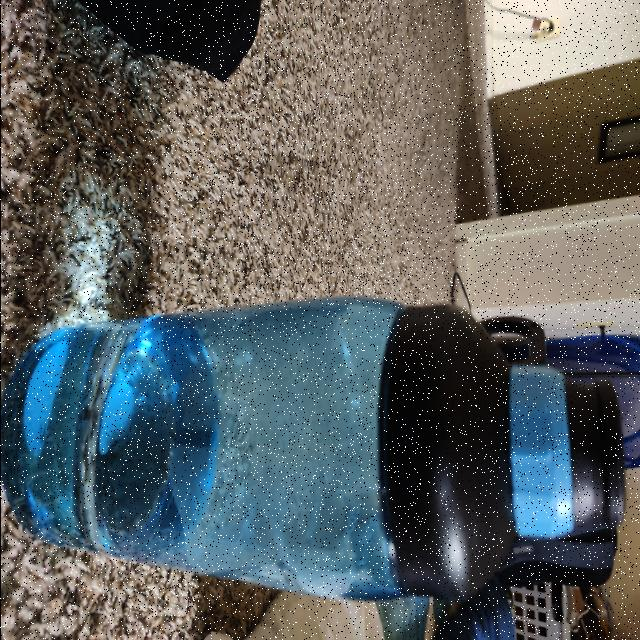bottle: (10, 268, 628, 622)
